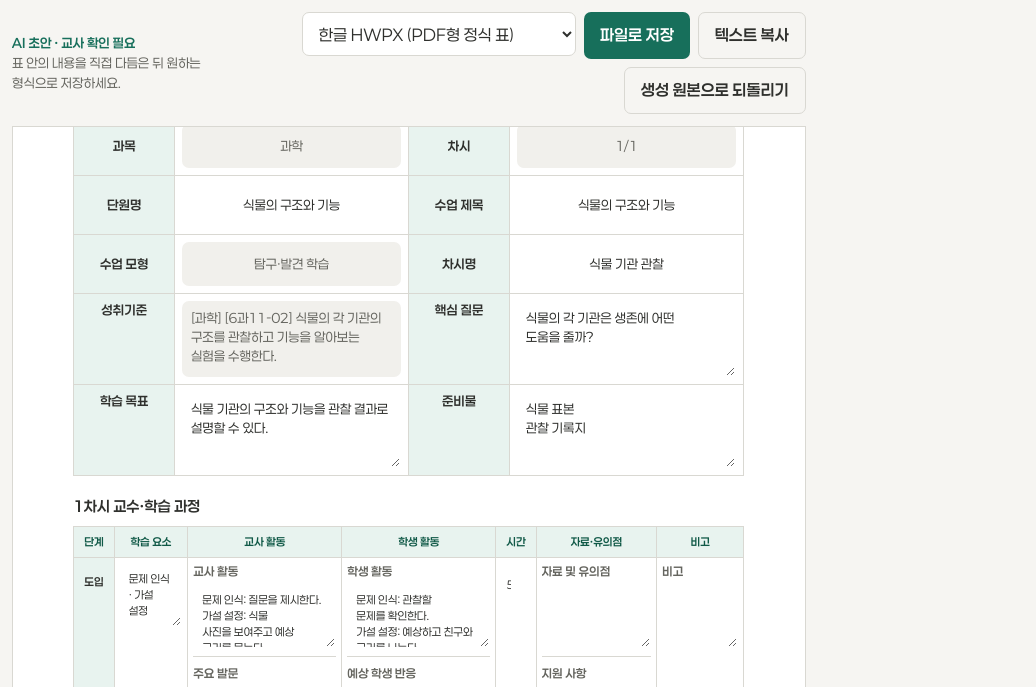
Test: edits a learning goal and restores the generated original
(page scrolled)
Replace the text in the text box named "1차시 학습 목표" with "수정한 목표" at x=292, y=430, box left=182, top=392, right=401, bottom=468
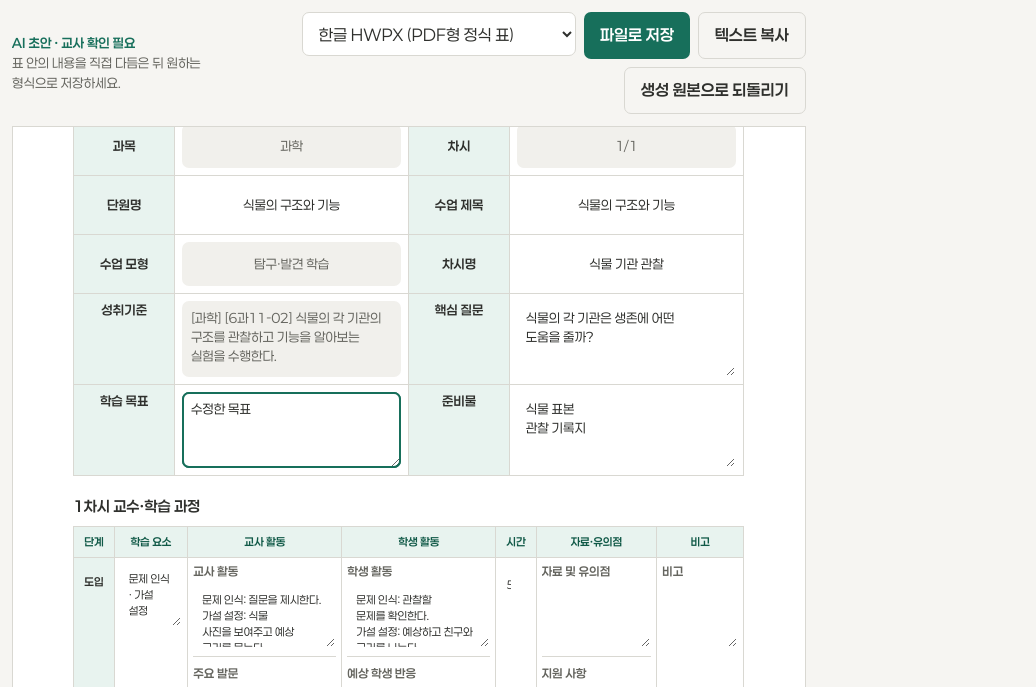
Click the button "생성 원본으로 되돌리기".
click(715, 90)  # box left=624, top=67, right=806, bottom=114
(page scrolled)
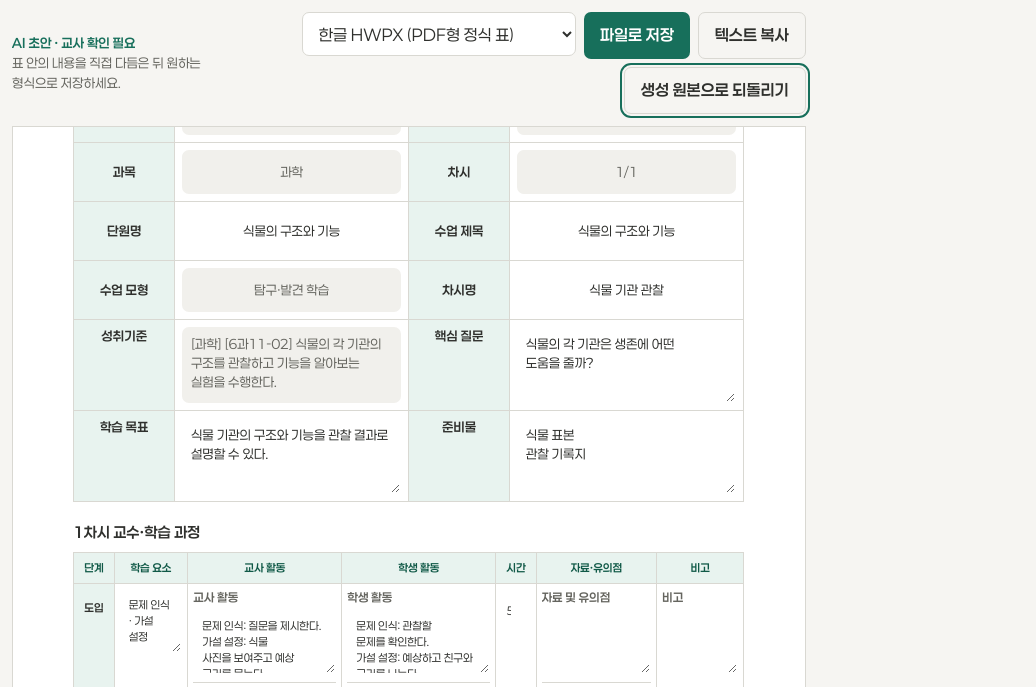
Result: the text box named "1차시 학습 목표" holds "식물 기관의 구조와 기능을 관찰 결과로 설명할 수 있다." at left=182, top=418, right=401, bottom=494
